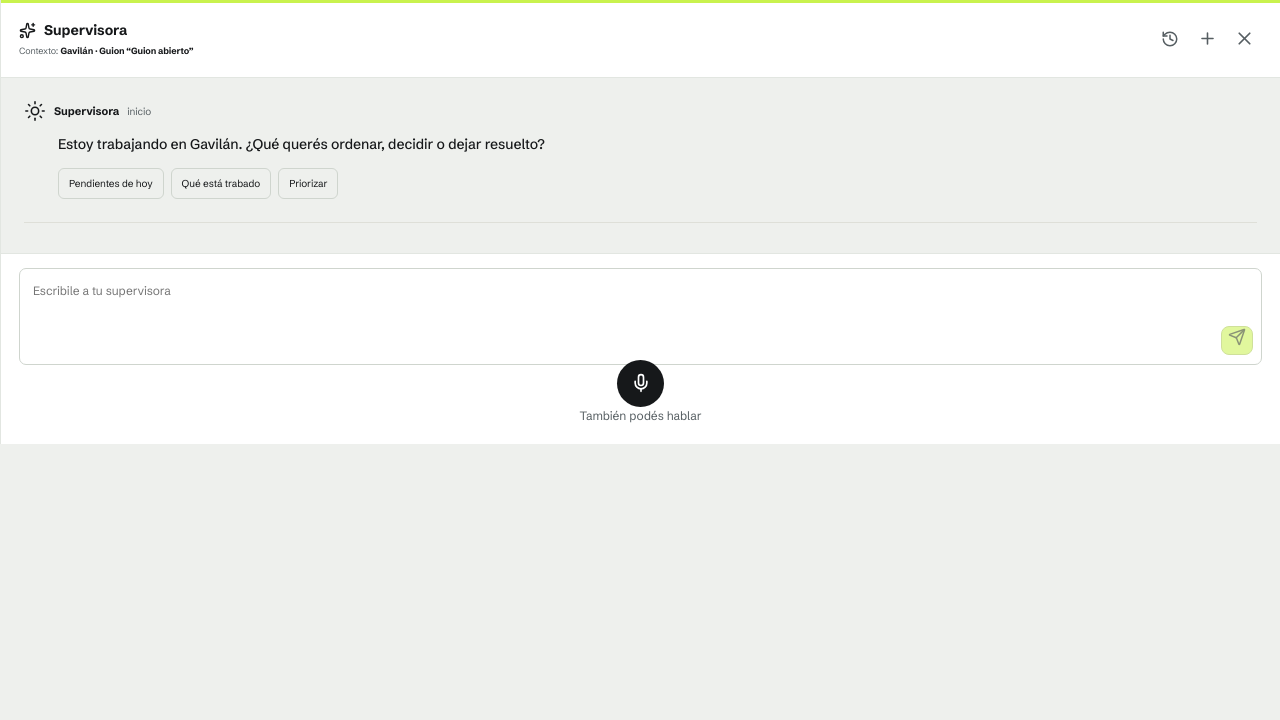
Test: AiDrawer chat contract › pins an explicit global conversation while still reporting the current view
Click the button "Contexto: Gavilán · Guion “Guion abierto”" at (106, 51), box left=19, top=44, right=194, bottom=57
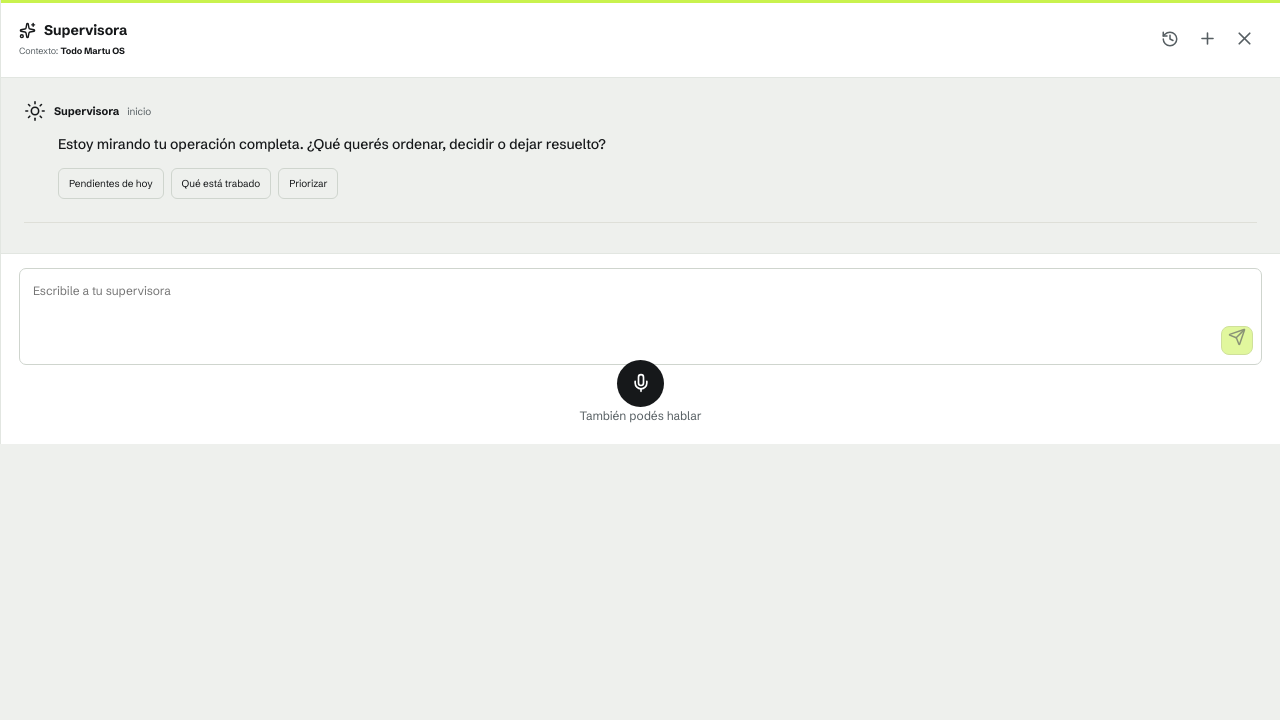
expect the text "Todo Martu OS" is shown: met, box left=60, top=45, right=125, bottom=56
Type "¿Qué tengo hoy?" into the text box with test id "ai-input" at (640, 313), box left=20, top=269, right=1261, bottom=357
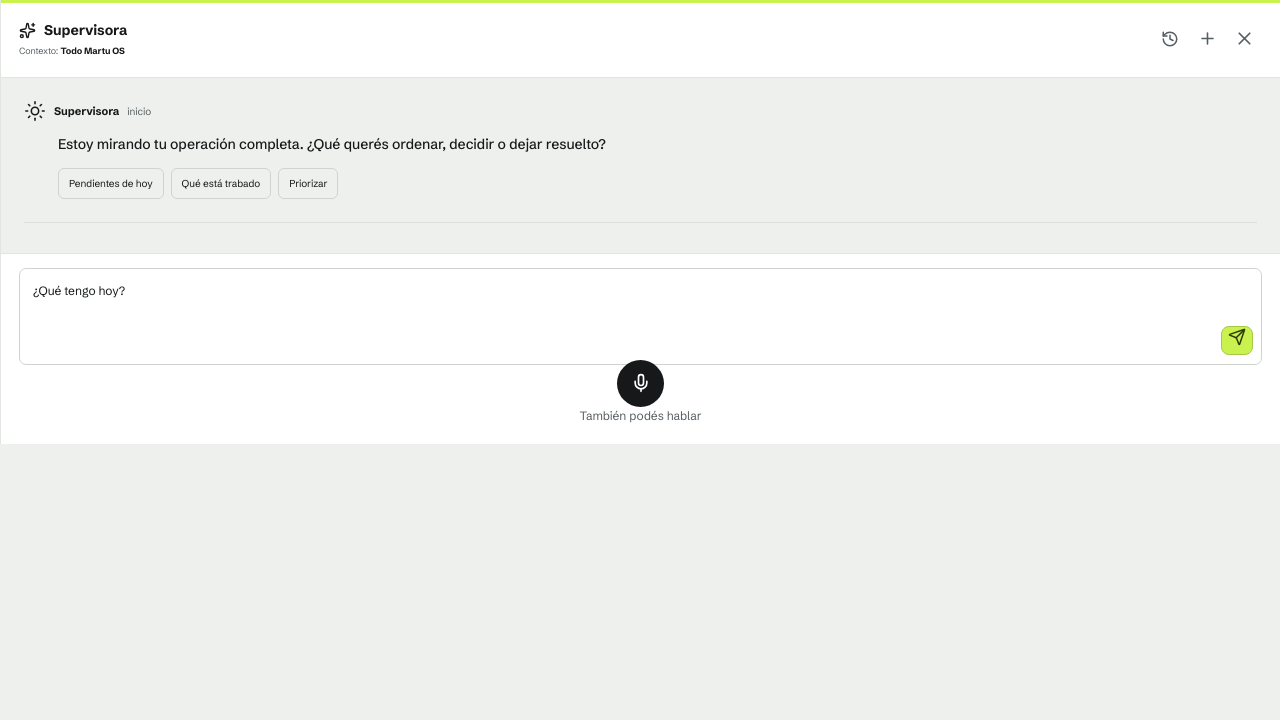
Click the button with test id "ai-send" at (1237, 341), box left=1221, top=326, right=1253, bottom=355
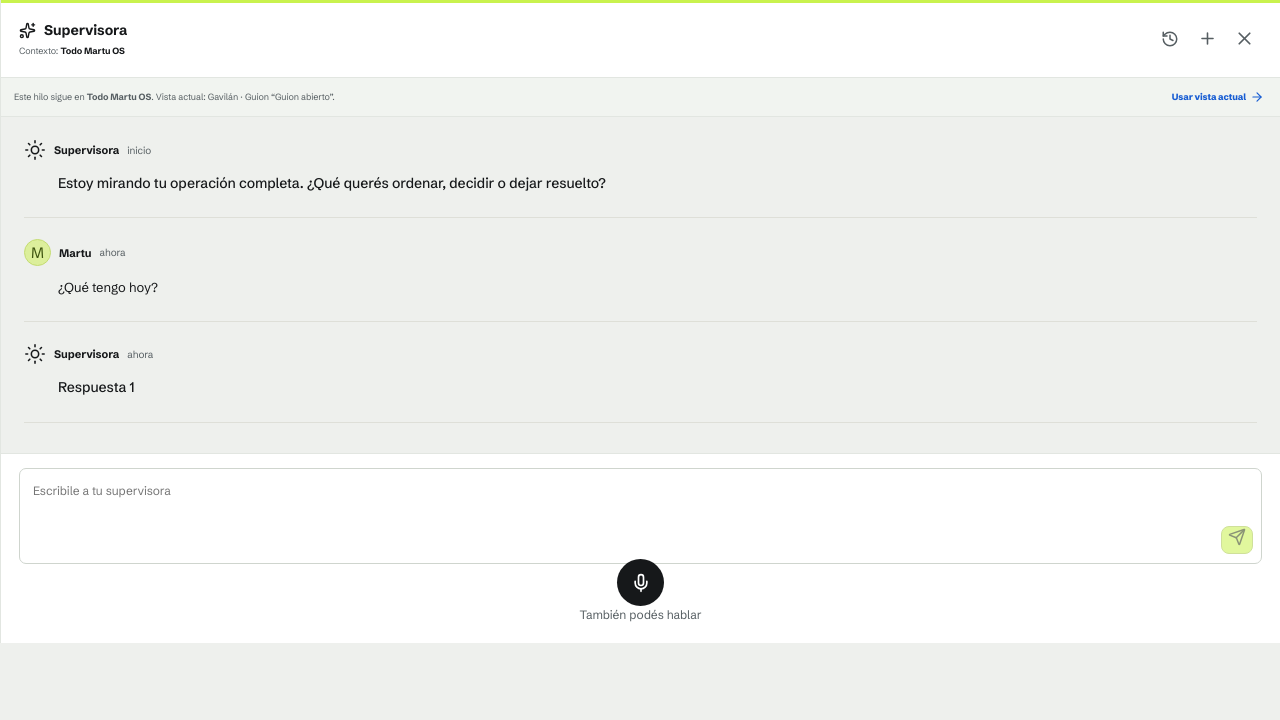
expect the text "Respuesta 1" is shown: met, box left=58, top=378, right=135, bottom=396
